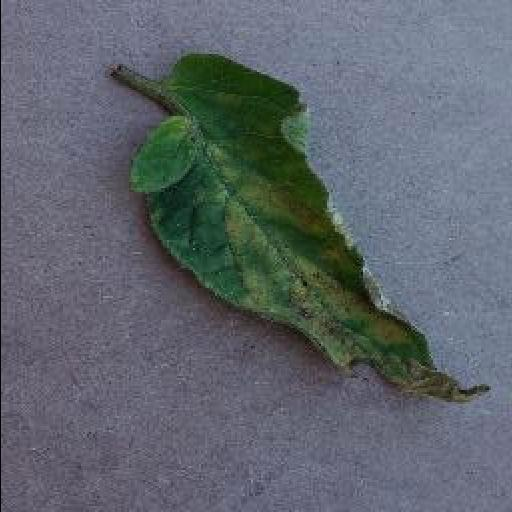disease_tomato: (127, 56, 489, 402)
